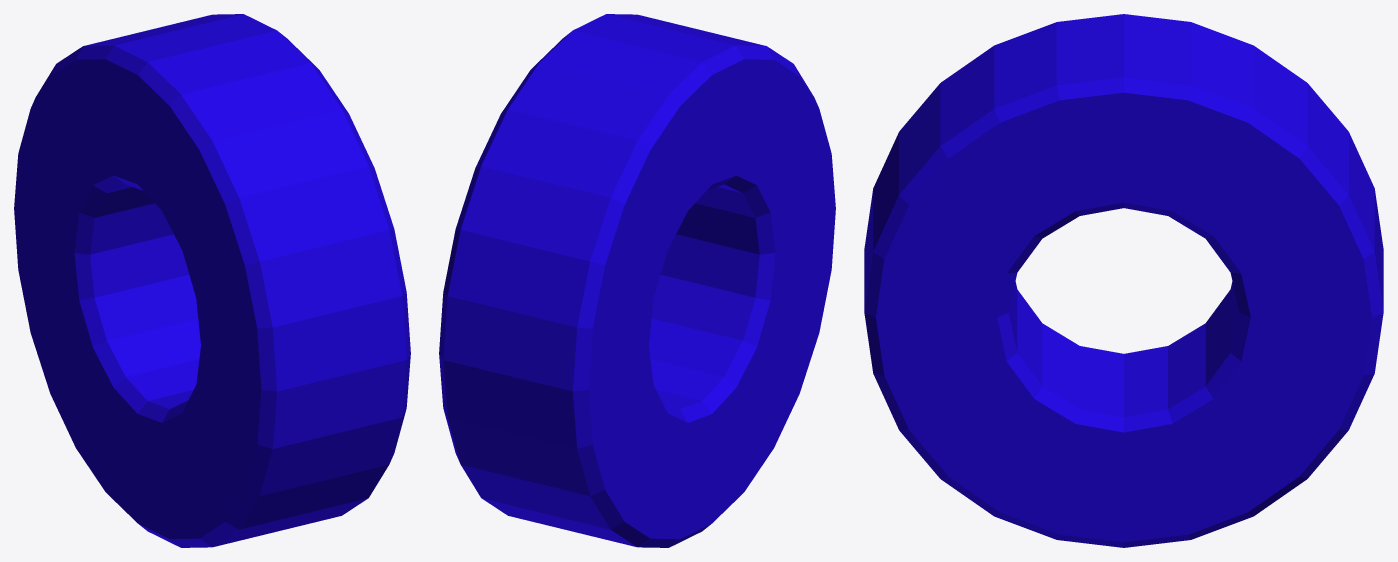
File: Caster_Wheel.dae
The picture shows the model from 3 angles, left to right: view 1: azimuth 30°, elevation 25°; view 2: azimuth 150°, elevation 25°; view 3: azimuth 270°, elevation 25°; orthographic projection.
Visible parts, largest first — view 1: Caster; view 2: Caster; view 3: Caster.
Boxes of the visible parts, box(x1,y1,x2,y2) form: Caster: box(14, 14, 410, 547); Caster: box(439, 14, 835, 547); Caster: box(864, 14, 1383, 547).
Bounding box in the file's own units: 0.015 × 0.045 × 0.045.
